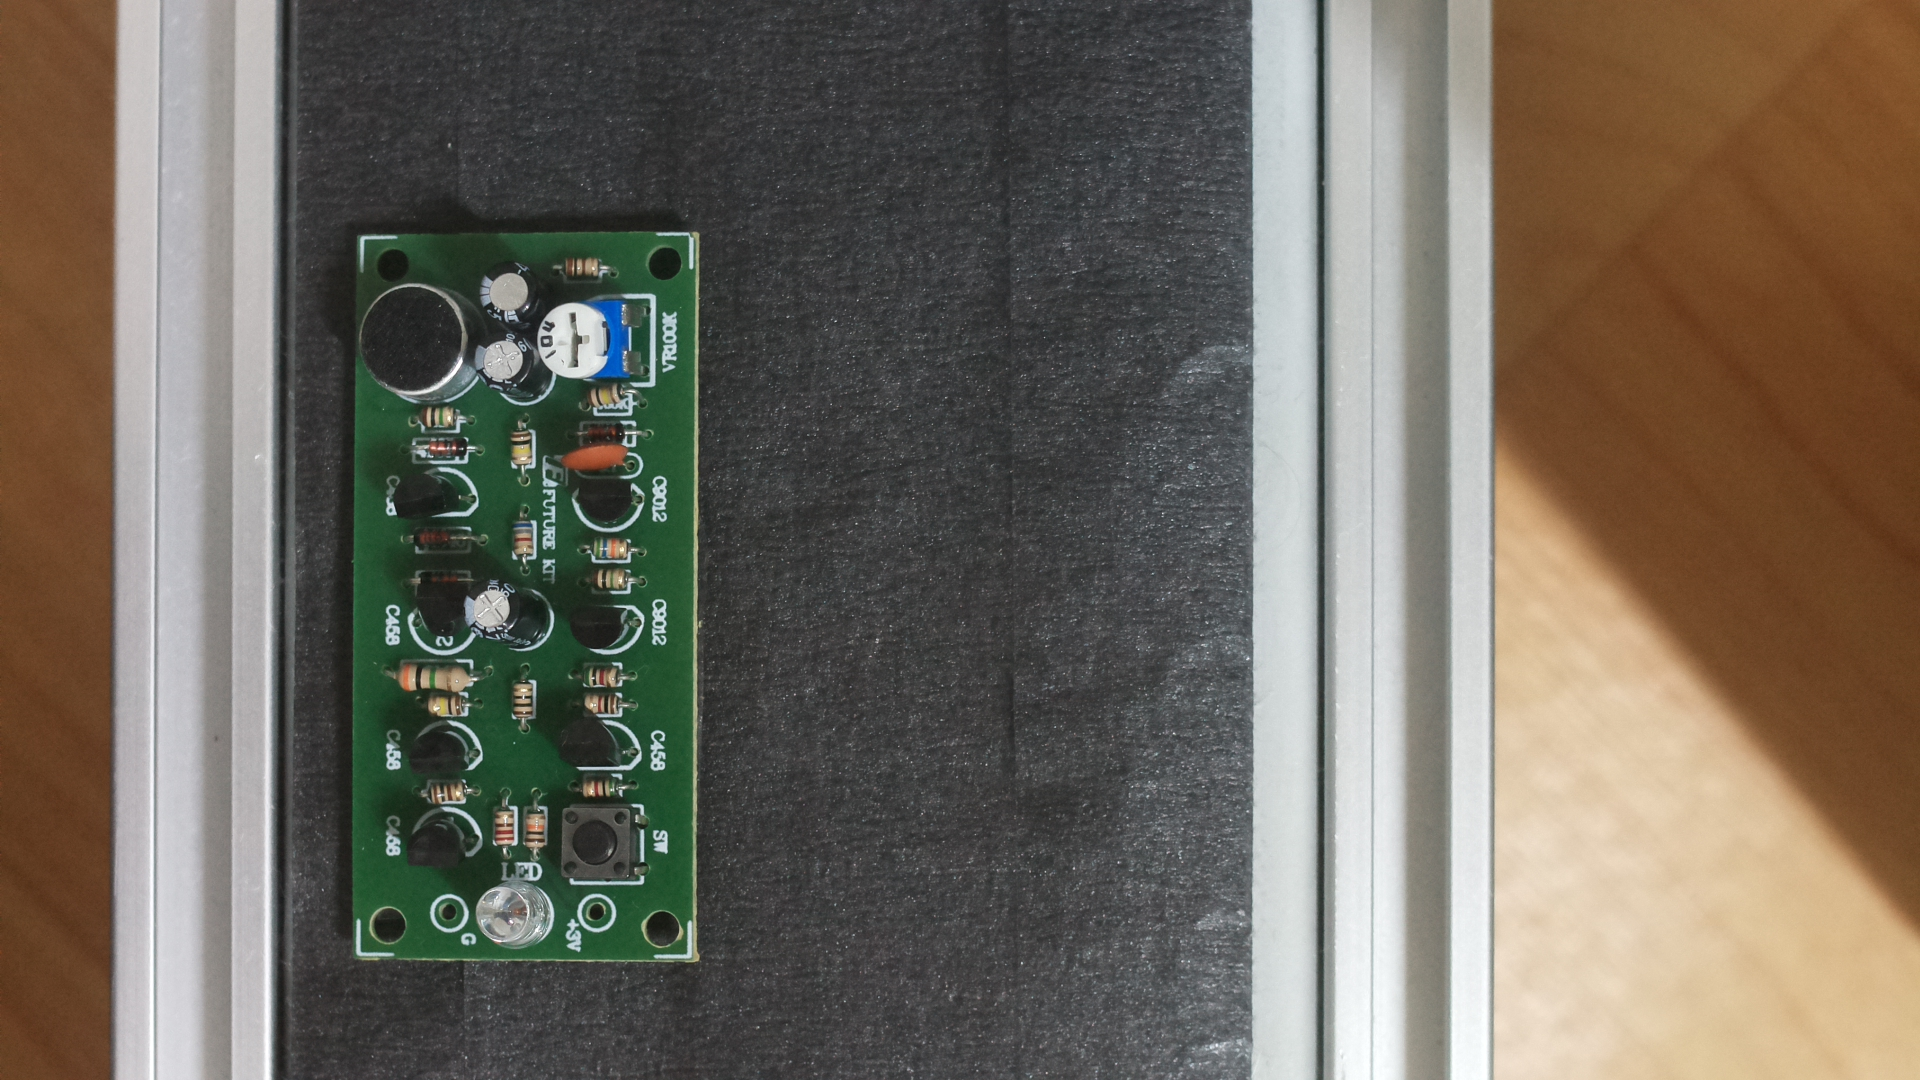A_Normal: (345, 218, 713, 972)
